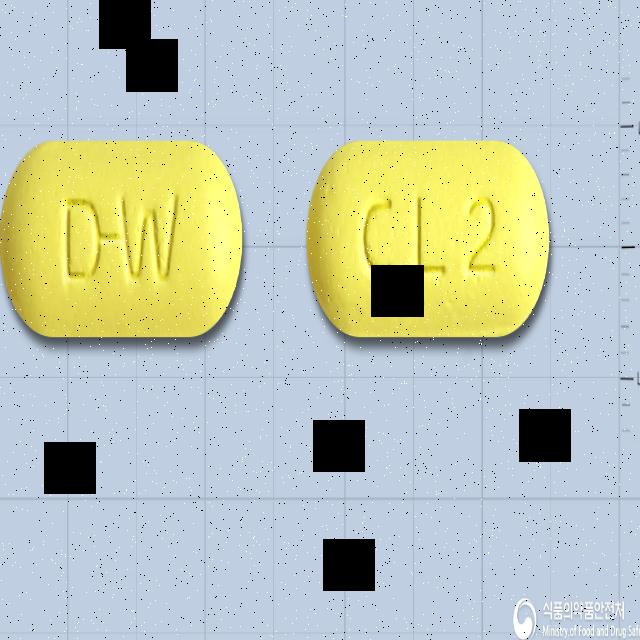Clearmycin - 250mg: (306, 137, 549, 337), (0, 138, 244, 337)
